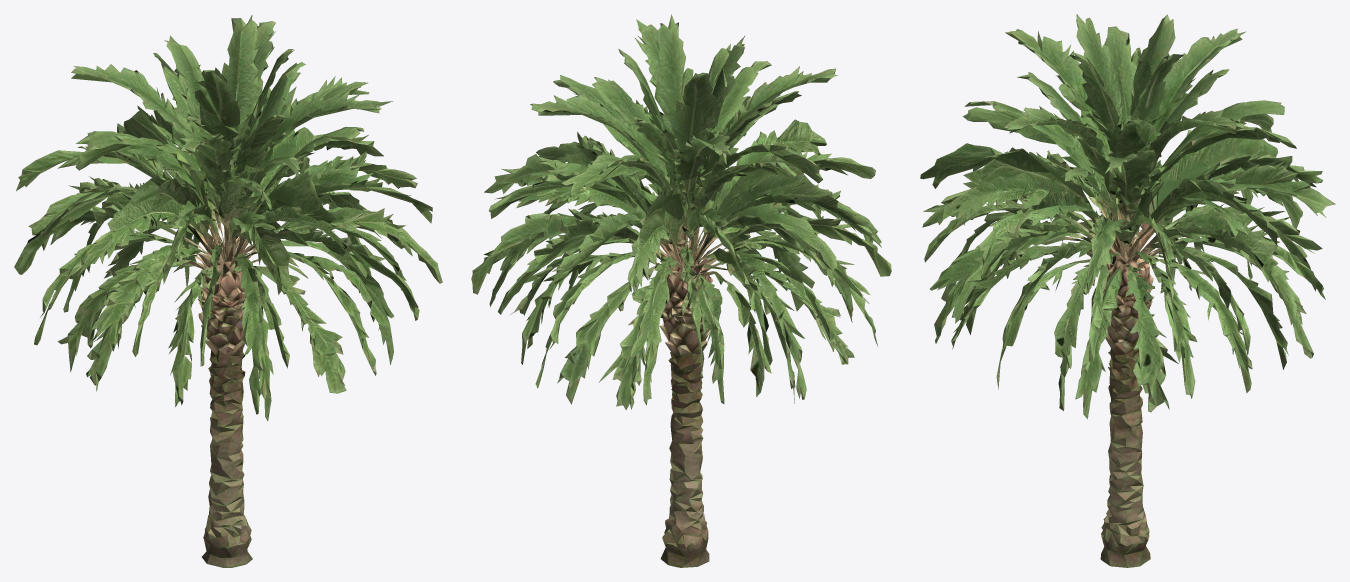
The model's file is palm.glb.
3 views of the same model, side by side, from view 1: azimuth 30°, elevation 25°; view 2: azimuth 150°, elevation 25°; view 3: azimuth 270°, elevation 25° (orthographic). The views are drawn at different scales.
Bounding box in the file's own units: 1.33 × 1.86 × 1.33.
Materials: 1 (1 with a texture image).
